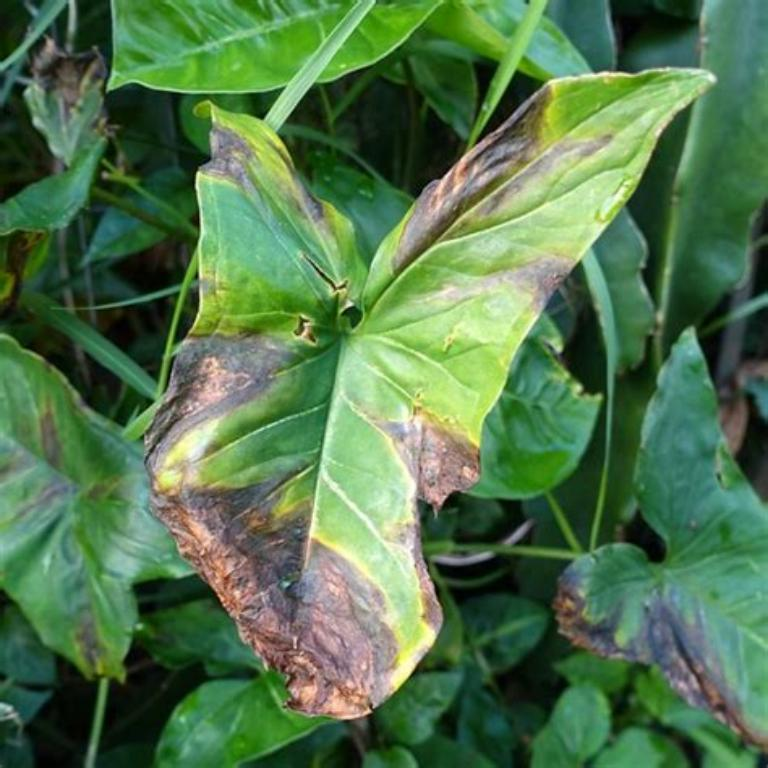blight: (144, 424, 414, 720), (358, 66, 626, 270)
